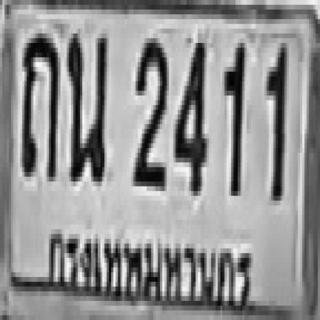A22: (20, 33, 60, 183)
A25: (67, 30, 107, 183)
N01: (222, 43, 244, 195), (266, 45, 286, 198)
N02: (132, 39, 168, 190)
N04: (174, 38, 208, 195)
P04: (41, 214, 258, 320)
